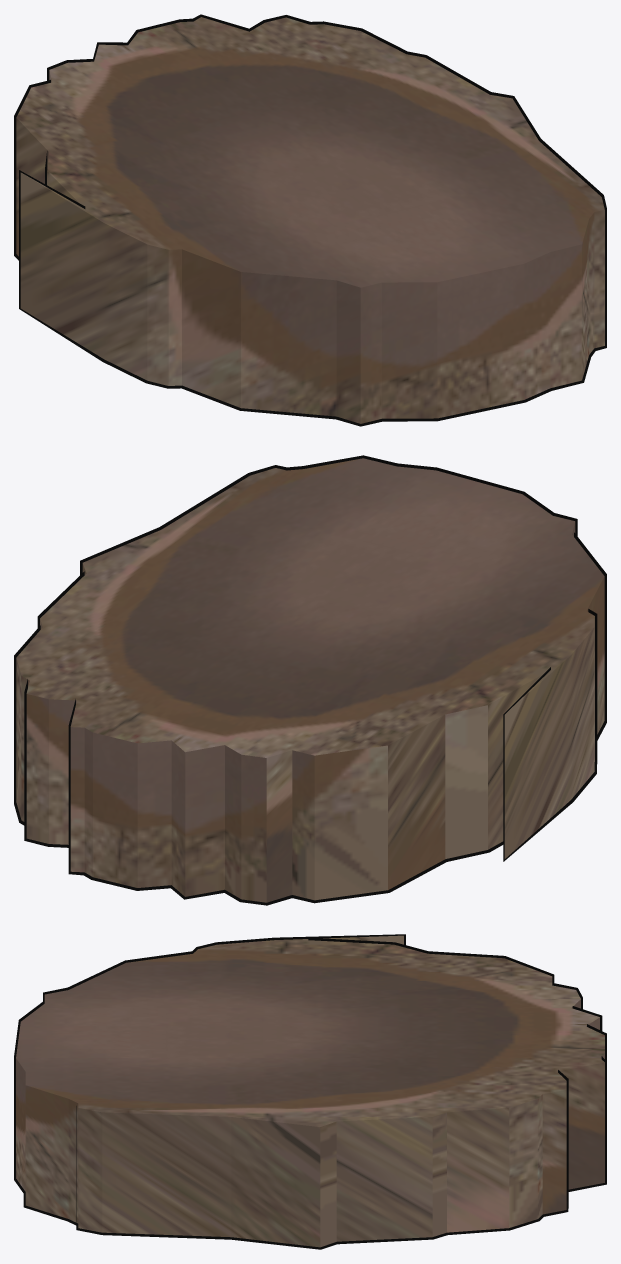
The model's file is Building_CraterMedium_Things_Building_Crater_3x3_Crater3x3B.glb.
3 views of the same model, one above another, from view 1: azimuth 30°, elevation 25°; view 2: azimuth 150°, elevation 25°; view 3: azimuth 270°, elevation 25° (orthographic). The views are drawn at different scales.
Visible parts, largest first — view 1: Body, Outline; view 2: Body, Outline; view 3: Body, Outline.
Part boxes in pixels (x1,y1,x2,y2): Body: [16, 17, 604, 423]; Outline: [14, 14, 606, 426]; Body: [16, 458, 604, 902]; Outline: [14, 455, 606, 905]; Body: [16, 935, 604, 1247]; Outline: [14, 934, 606, 1249].
Bounding box in the file's own units: 1.33 × 0.4022 × 1.73.
2 materials, 1 textured.
